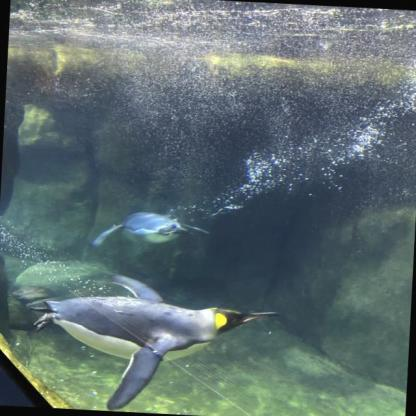penguin: (21, 270, 286, 415), (92, 209, 210, 258)
